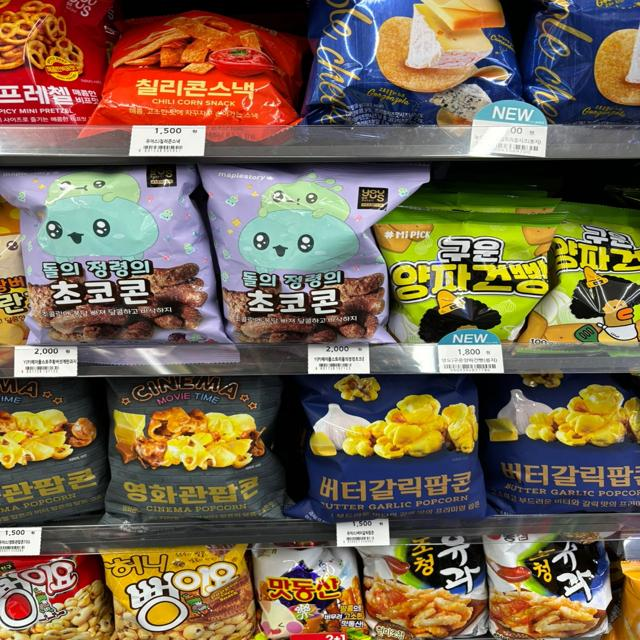product: (8, 169, 218, 345), (224, 168, 387, 343), (295, 376, 489, 514), (312, 7, 524, 132), (114, 372, 284, 523), (381, 210, 555, 355), (114, 17, 297, 132), (493, 375, 640, 513), (104, 544, 255, 640), (361, 528, 487, 637), (1, 375, 91, 519), (535, 12, 640, 133), (493, 532, 616, 634), (550, 210, 640, 347), (4, 9, 92, 134), (256, 544, 356, 638), (1, 555, 102, 634)
